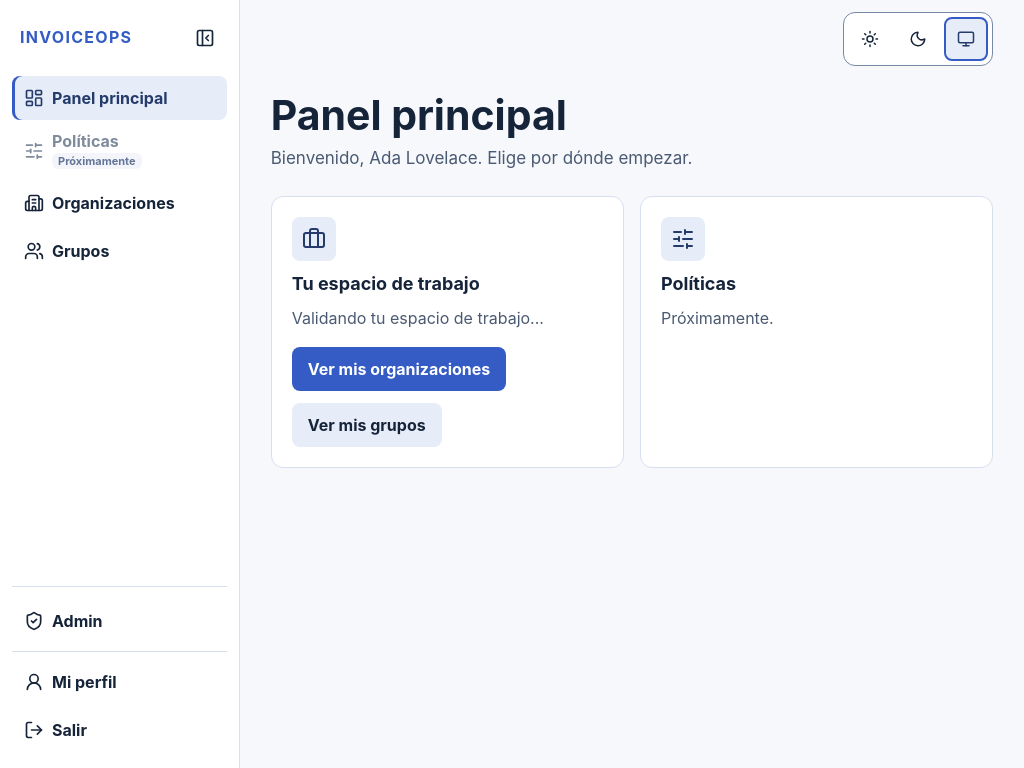
sidebar navigation › changes the URL and marks the active destination
The image size is (1024, 768).
Click the link "Grupos" at [67, 252], box [24,242,109,262]
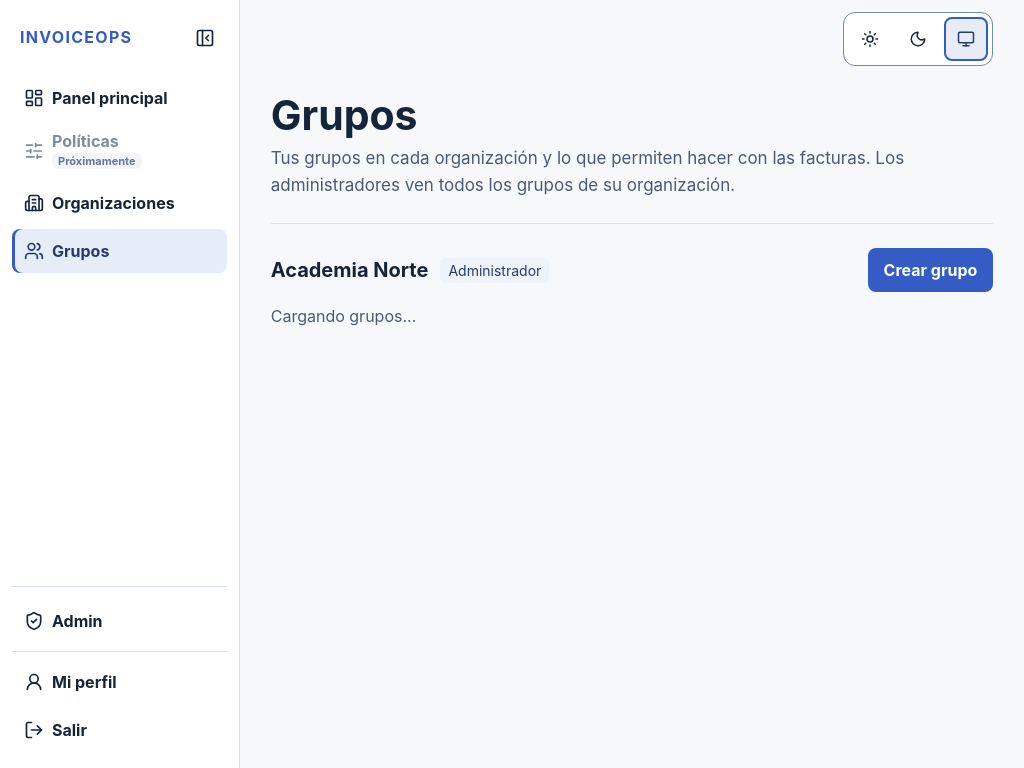
Check: the heading "Grupos" is shown, box [271,90,418,140]
# A nested URL keeps its section active.
Click the link "Organizaciones" at [99, 204], box [24,194,175,214]
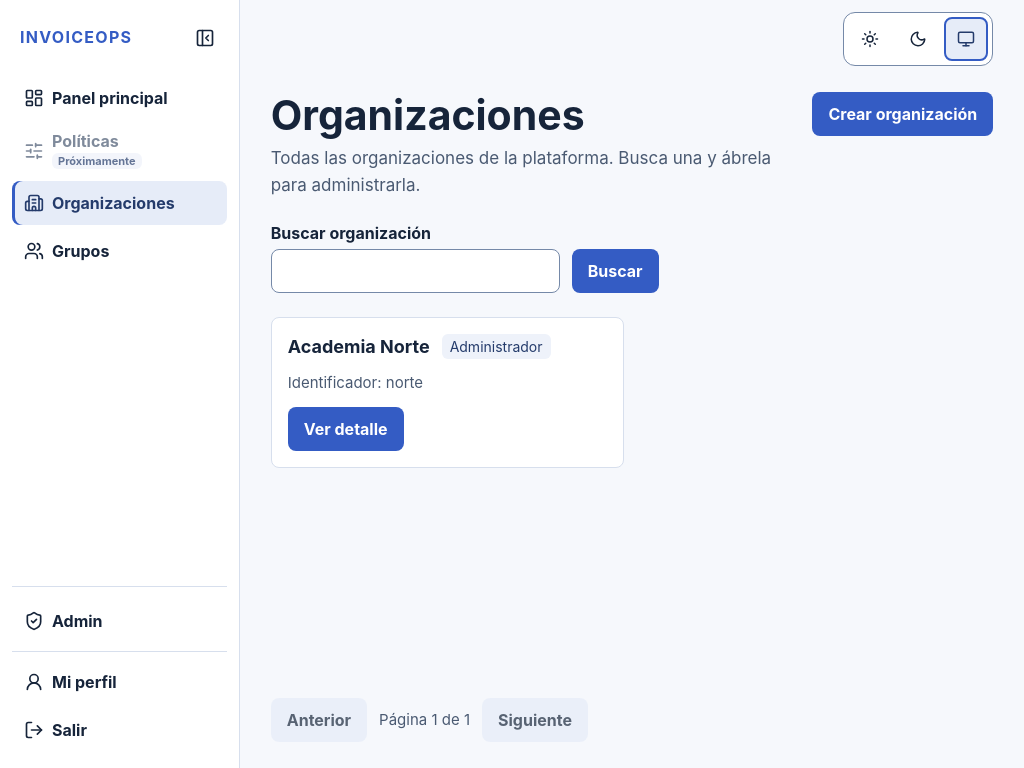
Click the link with aria-label "Ver detalle de Academia Norte" at [346, 429], box [288,407,404,451]
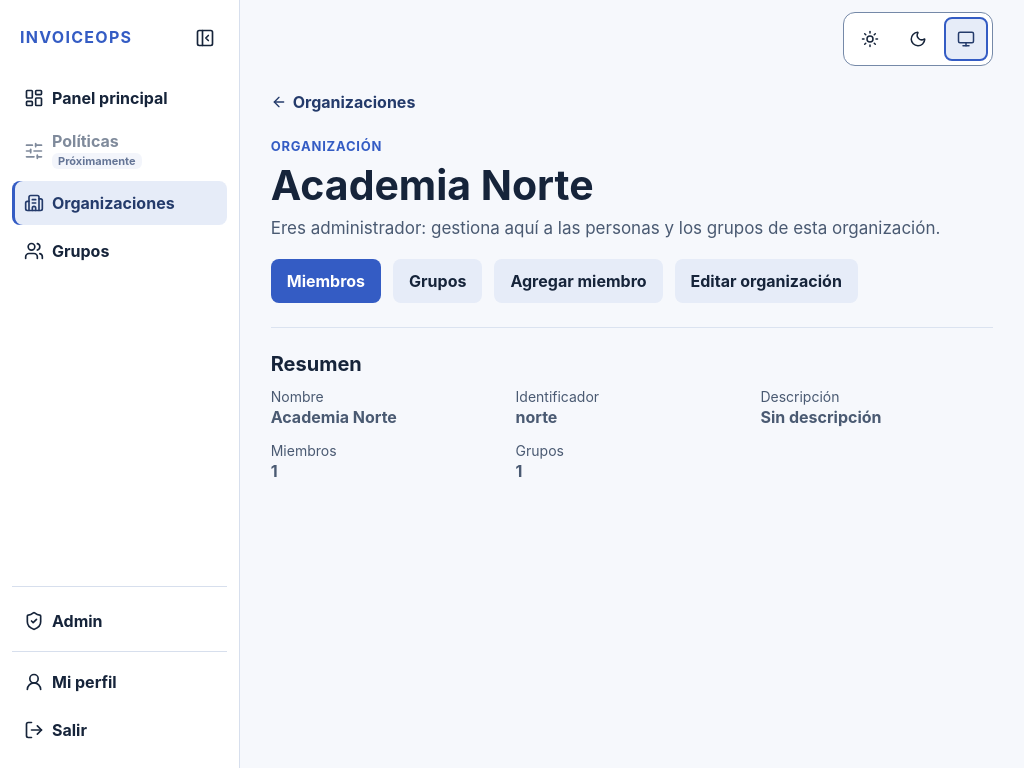
Check: the heading "Academia Norte" is shown, box [271,160,594,210]
